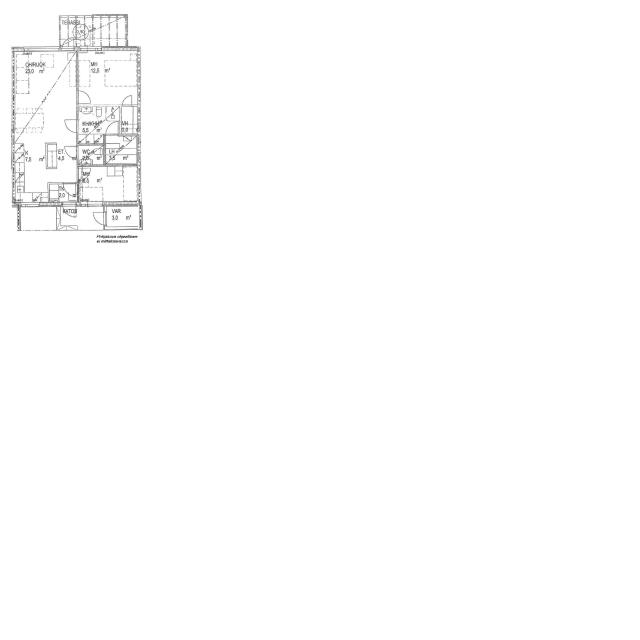door: (61, 118, 80, 136), (75, 88, 93, 105), (61, 202, 78, 219), (62, 144, 78, 161), (104, 120, 121, 136), (77, 164, 92, 182), (92, 211, 107, 226), (120, 94, 134, 106)
window: (24, 47, 59, 55)
zone: (10, 52, 77, 204), (14, 140, 76, 203), (76, 48, 139, 106), (76, 165, 140, 206), (76, 105, 112, 143), (105, 134, 139, 164), (105, 204, 142, 230), (77, 144, 104, 166), (120, 104, 139, 134)
